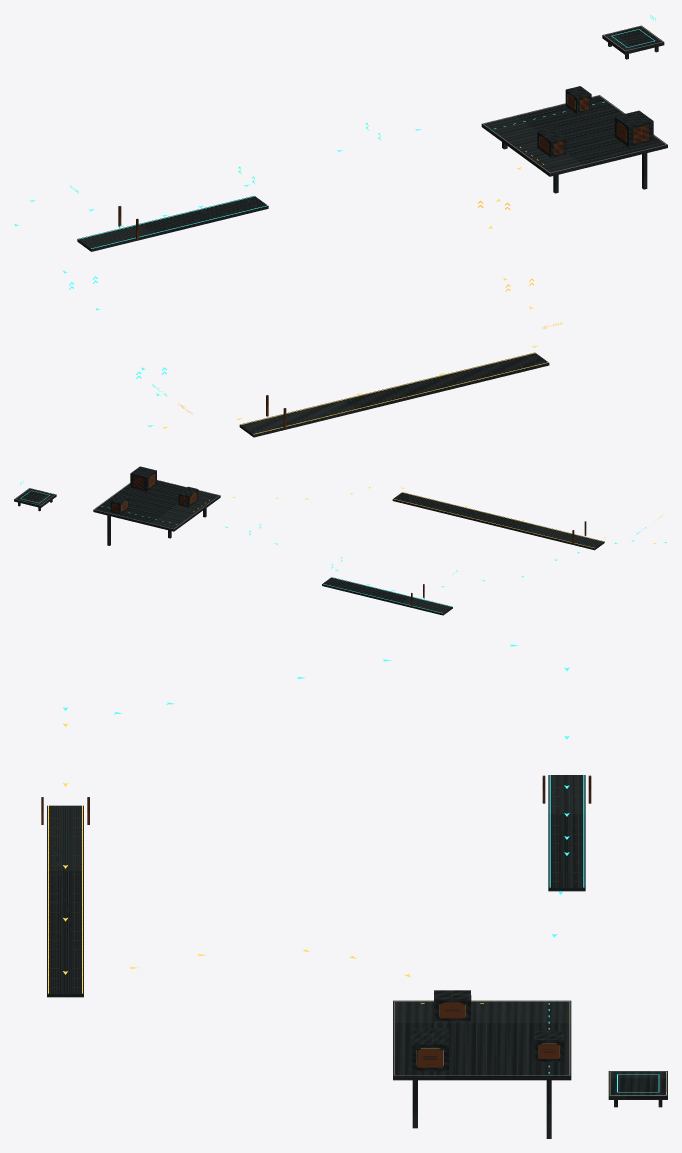
File: bridgehead-route.glb
3 renders of one model, top to bottom at view 1: azimuth 30°, elevation 25°; view 2: azimuth 150°, elevation 25°; view 3: azimuth 270°, elevation 25°, orthographic. The views are drawn at different scales.
Parts seen in each view (by area): view 1: Bridgehead_graphite, Bridgehead_burnt_alloy, Bridgehead_shield_guide, Bridgehead_charge_guide; view 2: Bridgehead_graphite, Bridgehead_burnt_alloy, Bridgehead_shield_guide, Bridgehead_charge_guide, Bridgehead_ceramic; view 3: Bridgehead_graphite, Bridgehead_burnt_alloy, Bridgehead_ceramic, Bridgehead_charge_guide.
Boxes of the visible parts, box(x1,y1,x2,y2) form: Bridgehead_graphite: box(77, 25, 667, 437); Bridgehead_burnt_alloy: box(84, 94, 648, 432); Bridgehead_shield_guide: box(162, 147, 562, 434); Bridgehead_charge_guide: box(14, 15, 655, 427); Bridgehead_graphite: box(14, 466, 604, 615); Bridgehead_burnt_alloy: box(112, 474, 599, 611); Bridgehead_shield_guide: box(193, 487, 663, 548); Bridgehead_charge_guide: box(20, 481, 666, 613); Bridgehead_ceramic: box(15, 474, 219, 529); Bridgehead_graphite: box(47, 775, 667, 1138); Bridgehead_burnt_alloy: box(41, 775, 591, 1067); Bridgehead_ceramic: box(394, 1001, 666, 1095); Bridgehead_charge_guide: box(63, 644, 659, 1092).
Bounding box in the file's own units: 147 × 19.96 × 88.04.
Materials: 5 (5 with a texture image).
